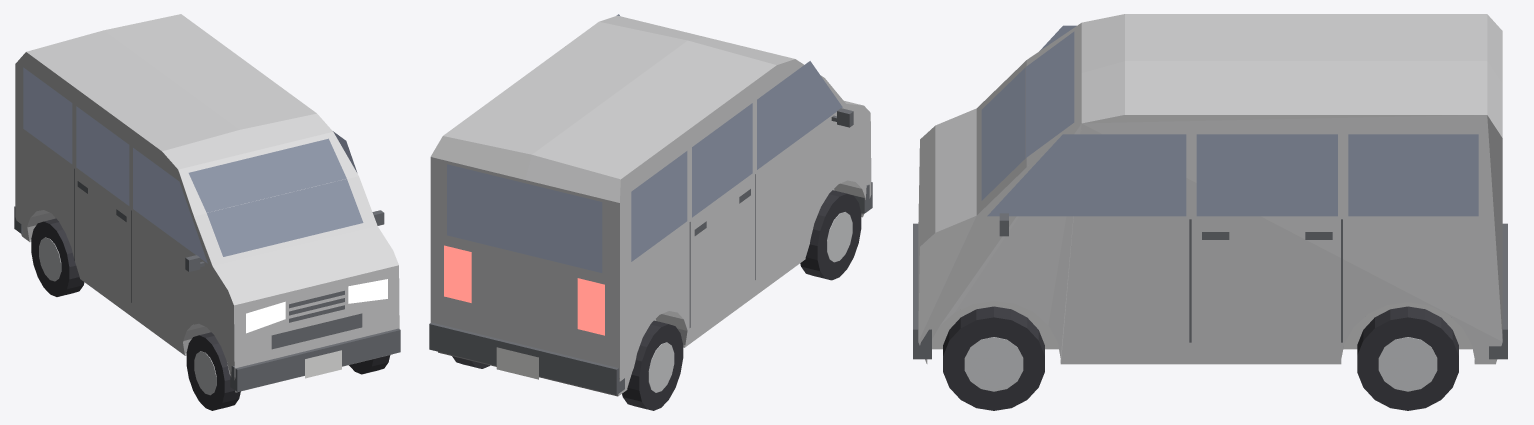
Rendered from keivan.glb.
The picture shows the model from 3 angles, left to right: view 1: azimuth 30°, elevation 25°; view 2: azimuth 150°, elevation 25°; view 3: azimuth 270°, elevation 25°; orthographic projection. The views are drawn at different scales.
Visible parts, largest first — view 1: body, glass, trim, tire, light, rim, plate; view 2: body, glass, tire, trim, taillight, rim, plate; view 3: body, glass, tire, rim, trim.
Part boxes in pixels (left/top/right/bottom): body: left=15, top=14, right=399, bottom=392; glass: left=23, top=67, right=363, bottom=263; trim: left=14, top=168, right=400, bottom=391; tire: left=31, top=218, right=390, bottom=410; light: left=246, top=279, right=387, bottom=333; rim: left=39, top=237, right=216, bottom=395; plate: left=305, top=350, right=341, bottom=378; body: left=430, top=15, right=871, bottom=396; glass: left=447, top=14, right=842, bottom=272; tire: left=452, top=190, right=861, bottom=410; trim: left=429, top=108, right=872, bottom=395; taillight: left=444, top=245, right=604, bottom=335; rim: left=648, top=212, right=852, bottom=392; plate: left=496, top=347, right=538, bottom=379; body: left=918, top=14, right=1502, bottom=364; glass: left=981, top=25, right=1478, bottom=216; tire: left=943, top=306, right=1458, bottom=410; rim: left=964, top=337, right=1437, bottom=391; trim: left=913, top=213, right=1507, bottom=359.
Size of the model in its own units: 1.65 by 1.79 by 3.39.
